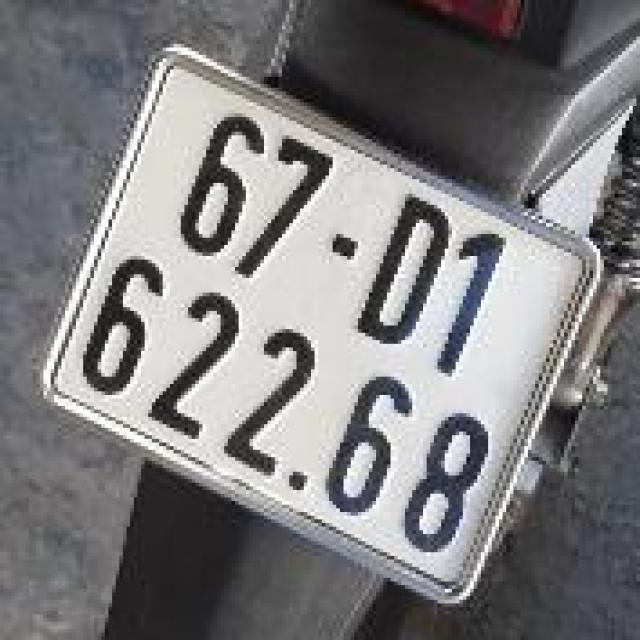1: (411, 219, 515, 389)
2: (135, 277, 255, 455), (214, 316, 332, 487)
6: (68, 242, 181, 414), (312, 364, 425, 534), (167, 100, 277, 269)
7: (220, 124, 343, 298)
8: (386, 398, 503, 570)
D: (345, 183, 465, 364)
